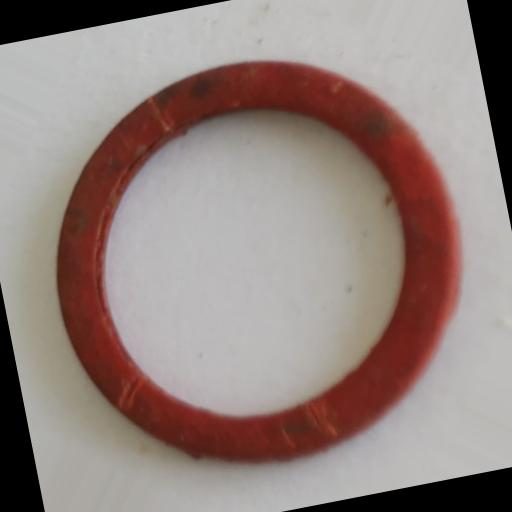defect: (306, 396, 342, 443), (115, 374, 149, 410), (147, 92, 174, 134), (276, 417, 300, 451)
